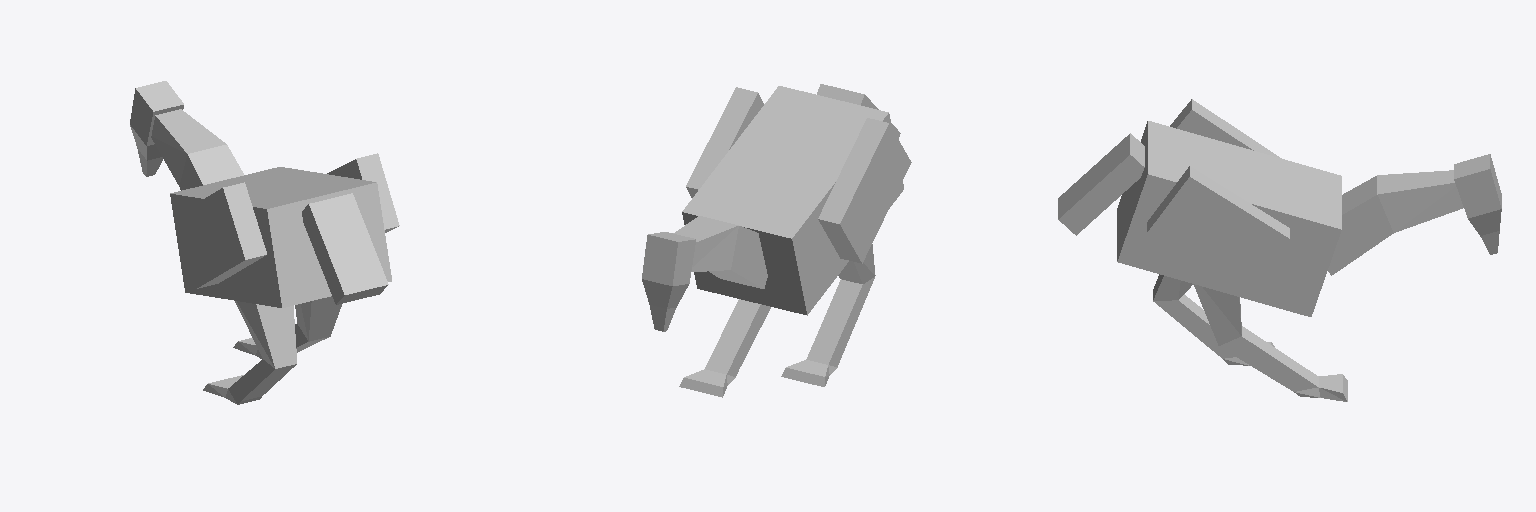
Rendered from Ostrich_000141.obj.
3 views of the same model, side by side, from view 1: azimuth 30°, elevation 25°; view 2: azimuth 150°, elevation 25°; view 3: azimuth 270°, elevation 25° (orthographic).
Visible parts, largest first — view 1: Cube_Cube.001; view 2: Cube_Cube.001; view 3: Cube_Cube.001.
Part boxes in pixels (bbox=[...]): Cube_Cube.001: bbox=[130, 81, 399, 404]; Cube_Cube.001: bbox=[642, 84, 911, 397]; Cube_Cube.001: bbox=[1058, 99, 1501, 401].
Bounding box in the file's own units: 0.7 × 1.04 × 1.74.